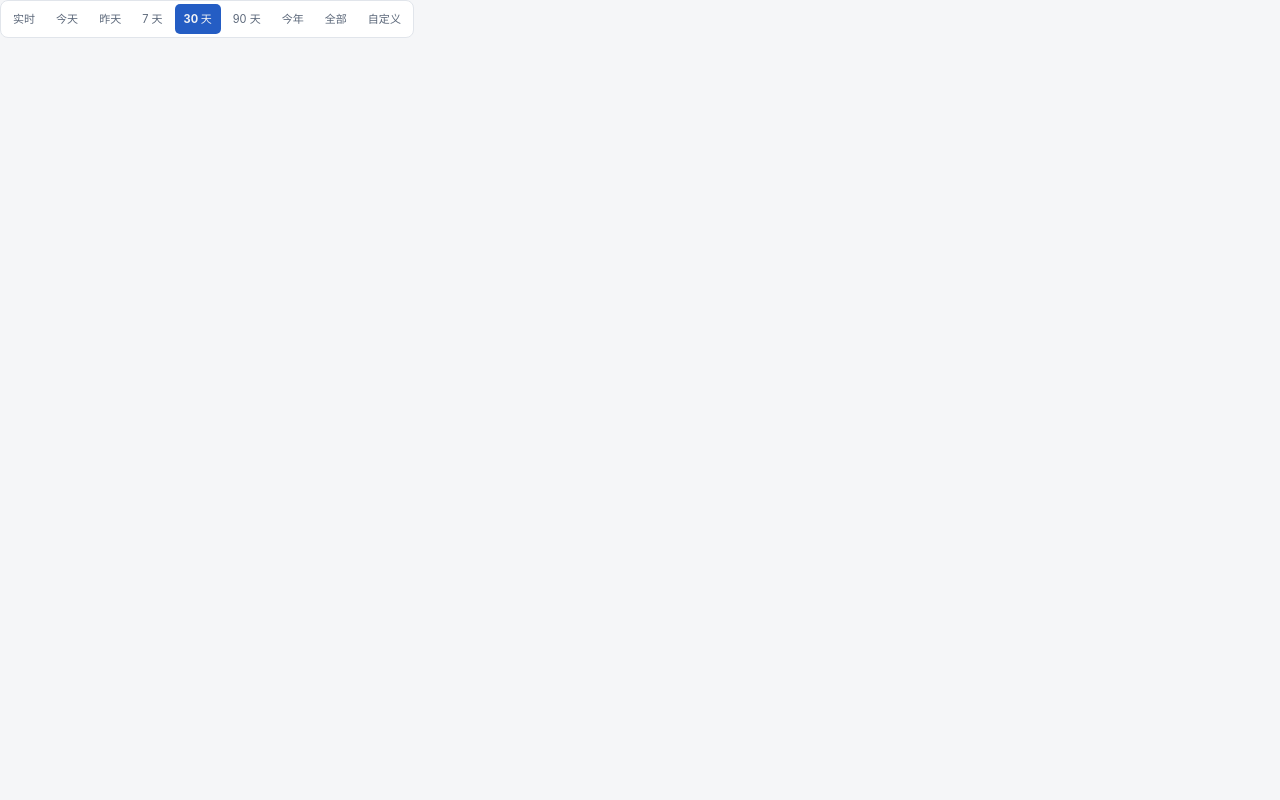
Test: RangeSelector › restores the applied preset when custom editing is cancelled
Step 1. Click the button "自定义" → click(384, 19), box [359, 4, 410, 34]
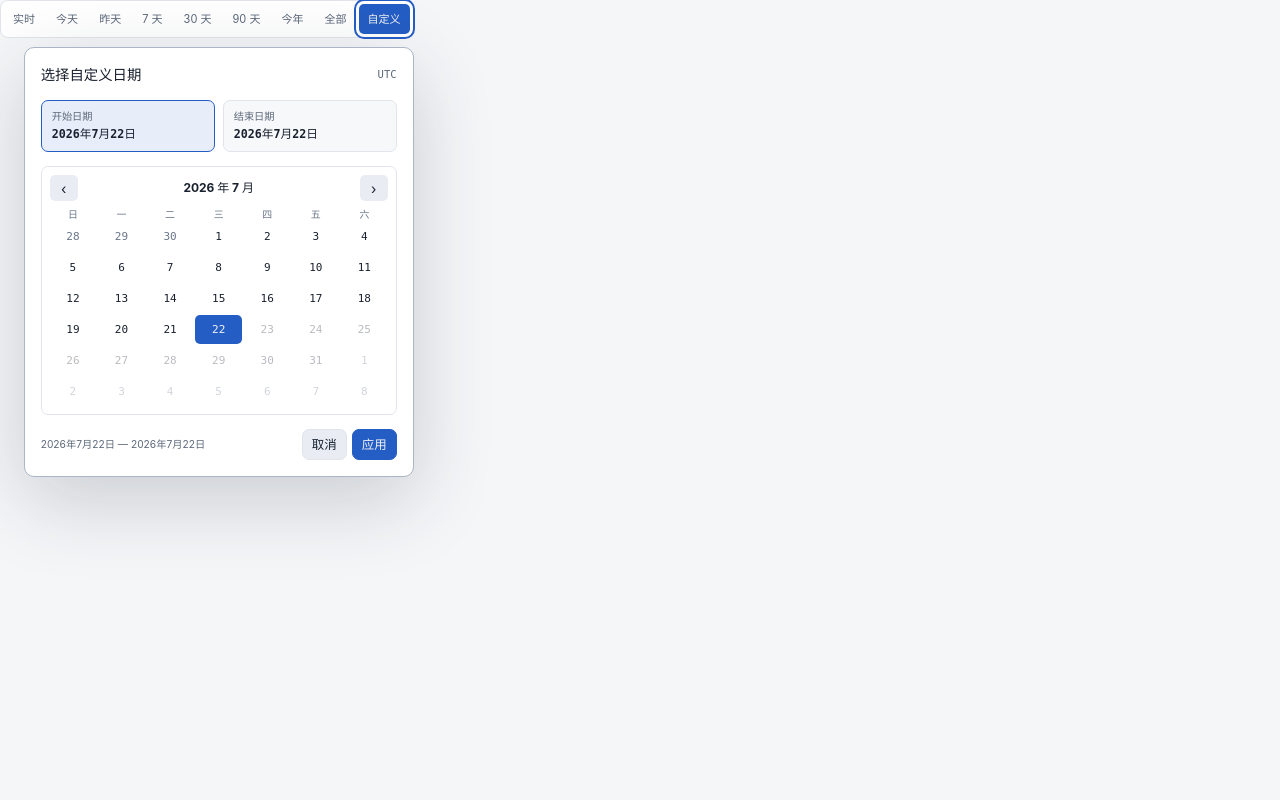
Step 2. Click the button "取消" → click(324, 445), box [302, 429, 347, 460]
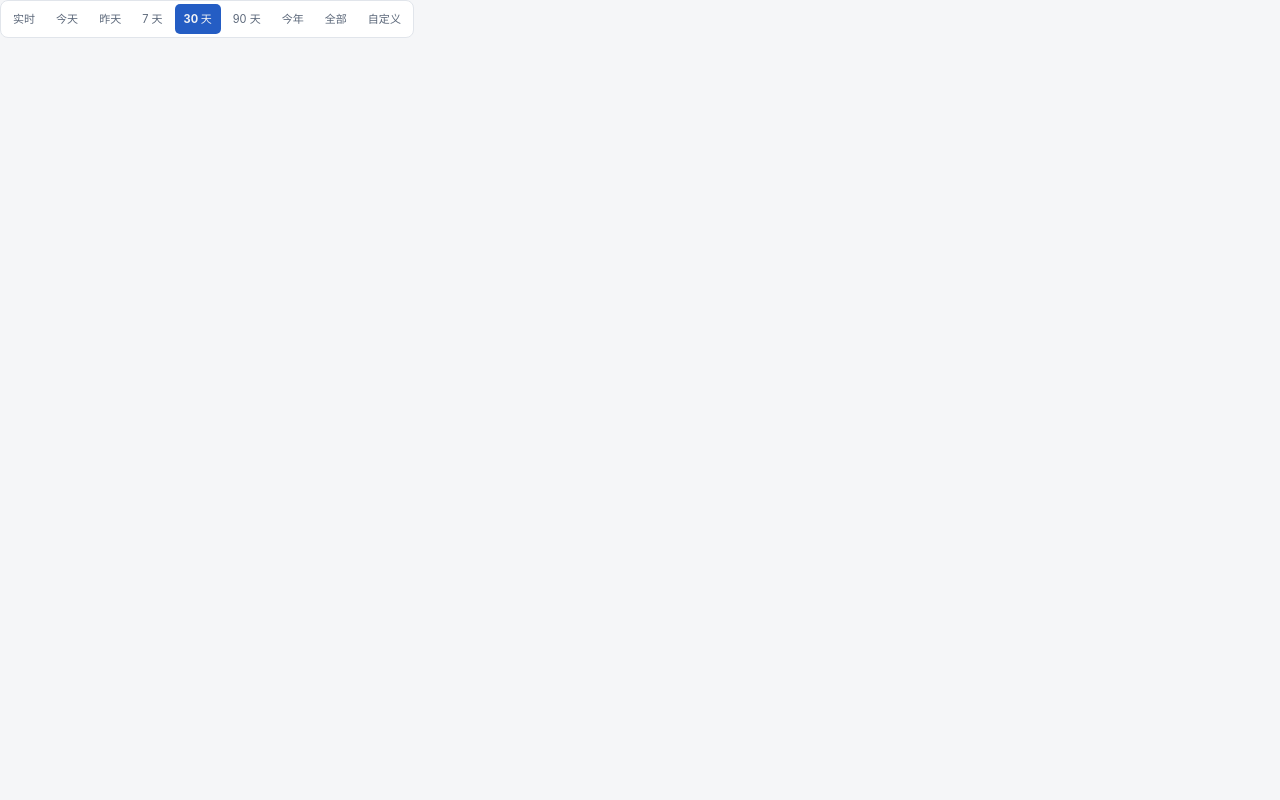
Result: the dialog is gone
